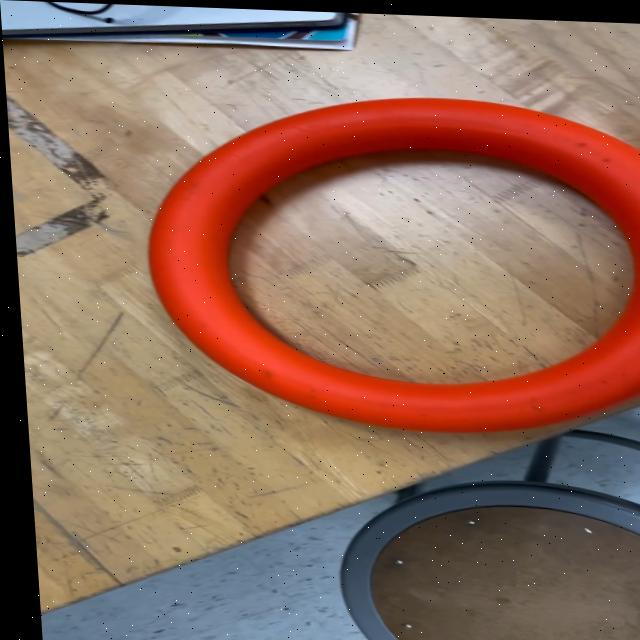note: (121, 83, 640, 438)
